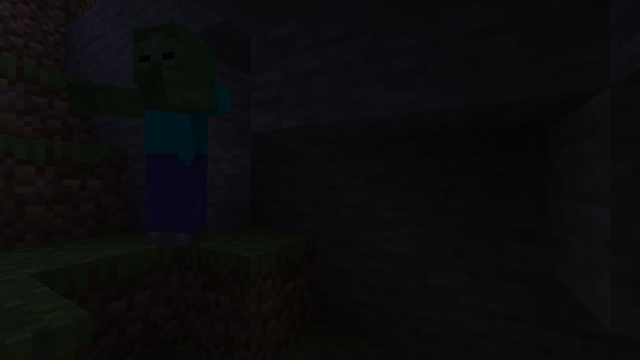zombies: (127, 20, 222, 254)
